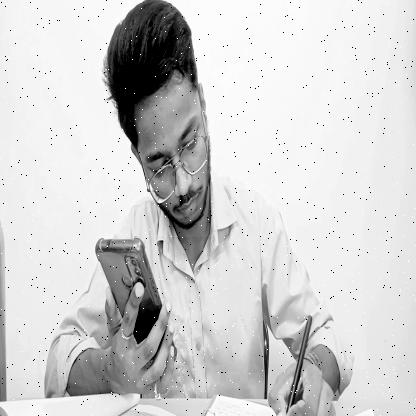Distracted: (106, 4, 216, 238)
